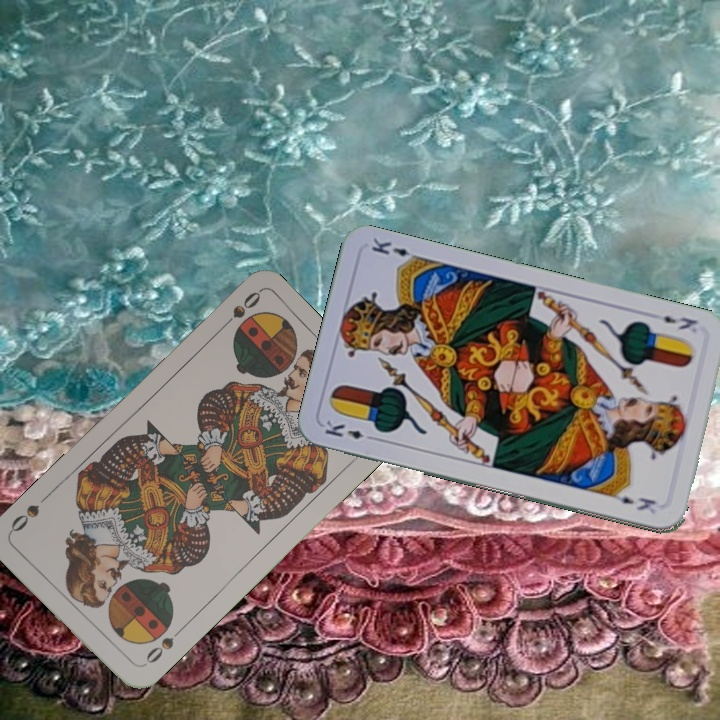EK: (321, 416, 379, 444), (659, 311, 700, 333)
SO: (215, 287, 263, 334), (137, 624, 185, 669)
